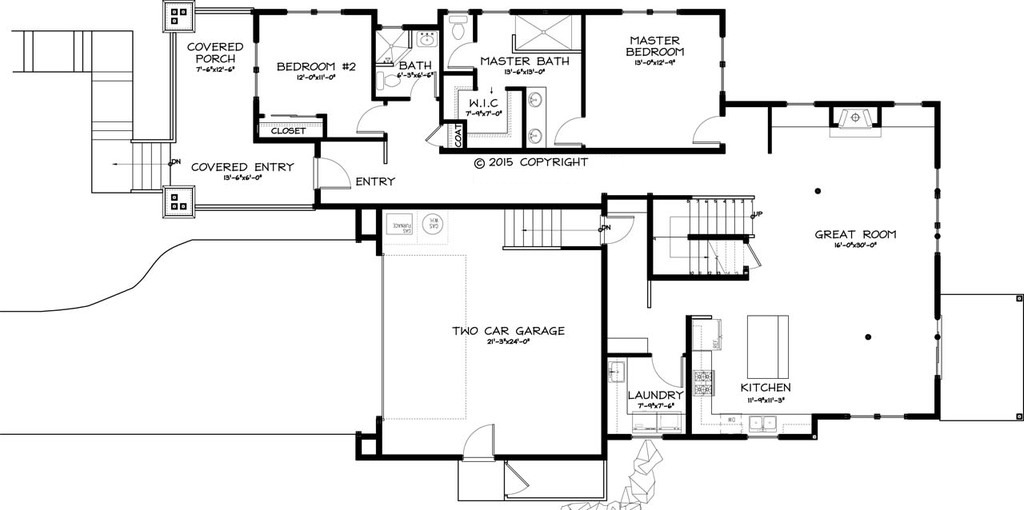door: (453, 410, 502, 461), (492, 452, 541, 503), (651, 343, 693, 389), (310, 154, 356, 192), (686, 105, 721, 146), (550, 116, 597, 146), (405, 72, 443, 104), (356, 101, 391, 134), (445, 39, 478, 69)
kitchen_bar: (741, 312, 799, 387)
large_sink: (438, 11, 472, 38), (373, 66, 404, 94)
small_sink: (519, 85, 545, 150), (605, 358, 637, 386), (416, 31, 439, 46)
stairs: (5, 23, 168, 193), (650, 194, 755, 280), (494, 207, 603, 251)
twin_sink: (737, 409, 780, 438)
window: (716, 35, 733, 98), (932, 313, 945, 377), (624, 6, 678, 17)
